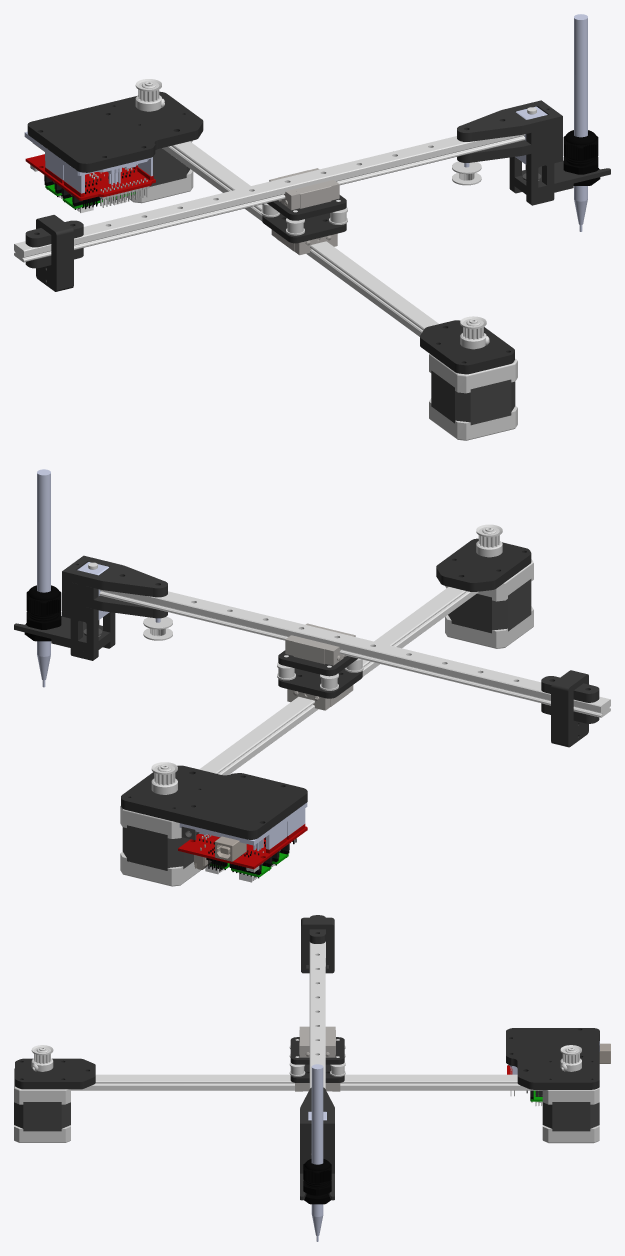
File: newcnc.glb
3 renders of one model, top to bottom at view 1: azimuth 30°, elevation 25°; view 2: azimuth 150°, elevation 25°; view 3: azimuth 270°, elevation 25°, orthographic. The views are drawn at different scales.
Visible parts, largest first — view 1: Mesh_53, Mesh_54, Mesh_52, Mesh_51, Mesh_44, Mesh_9, Mesh_4, Mesh_14, Mesh_661, Mesh_1, Mesh_38, Mesh_45 (+16 smaller); view 2: Mesh_53, Mesh_54, Mesh_52, Mesh_51, Mesh_44, Mesh_9, Mesh_825, Mesh_4, Mesh_5, Mesh_1, Mesh_45, Mesh_661 (+18 smaller); view 3: Mesh_52, Mesh_54, Mesh_51, Mesh_53, Mesh_4, Mesh_825, Mesh_44, Mesh_1, Mesh_50, Mesh_826, Mesh_38, Mesh_9 (+7 smaller).
Part boxes in pixels (x1,y1,x2,y2): Mesh_53: (14, 134, 525, 262); Mesh_54: (27, 91, 203, 172); Mesh_52: (162, 141, 438, 336); Mesh_51: (420, 320, 514, 374); Mesh_44: (431, 370, 515, 425); Mesh_9: (457, 100, 562, 141); Mesh_4: (574, 14, 587, 231); Mesh_14: (526, 127, 562, 205); Mesh_661: (25, 154, 155, 200); Mesh_1: (563, 130, 600, 185); Mesh_38: (429, 354, 517, 393); Mesh_45: (429, 398, 517, 440); Mesh_53: (99, 589, 610, 717); Mesh_54: (121, 765, 307, 839); Mesh_52: (199, 587, 478, 775); Mesh_51: (436, 538, 531, 591); Mesh_44: (448, 579, 531, 633); Mesh_9: (62, 555, 167, 597); Mesh_825: (122, 825, 193, 870); Mesh_4: (37, 469, 50, 687); Mesh_5: (62, 582, 98, 660); Mesh_1: (24, 585, 61, 641); Mesh_45: (445, 606, 533, 648); Mesh_661: (178, 826, 307, 869); Mesh_52: (71, 1074, 542, 1090); Mesh_54: (506, 1028, 599, 1089); Mesh_51: (15, 1058, 95, 1089); Mesh_53: (309, 941, 325, 1088); Mesh_4: (311, 1064, 323, 1241); Mesh_825: (542, 1102, 599, 1131); Mesh_44: (14, 1102, 70, 1131); Mesh_1: (303, 1159, 331, 1204); Mesh_50: (301, 921, 334, 973); Mesh_826: (542, 1125, 599, 1143); Mesh_38: (14, 1068, 70, 1104); Mesh_9: (300, 1087, 334, 1130).
Size of the model in its own units: 4.22 by 1.48 by 4.6.
